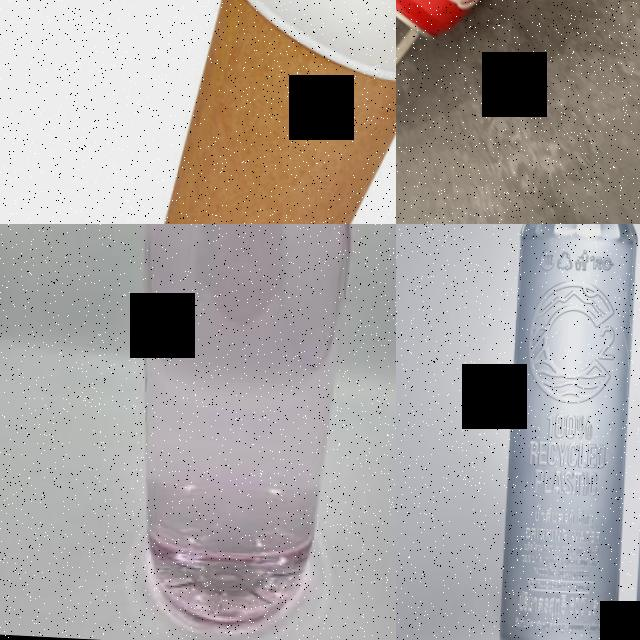bottle: (120, 224, 366, 630), (495, 224, 640, 640)
can: (396, 0, 633, 51)
cup: (127, 0, 396, 224)
